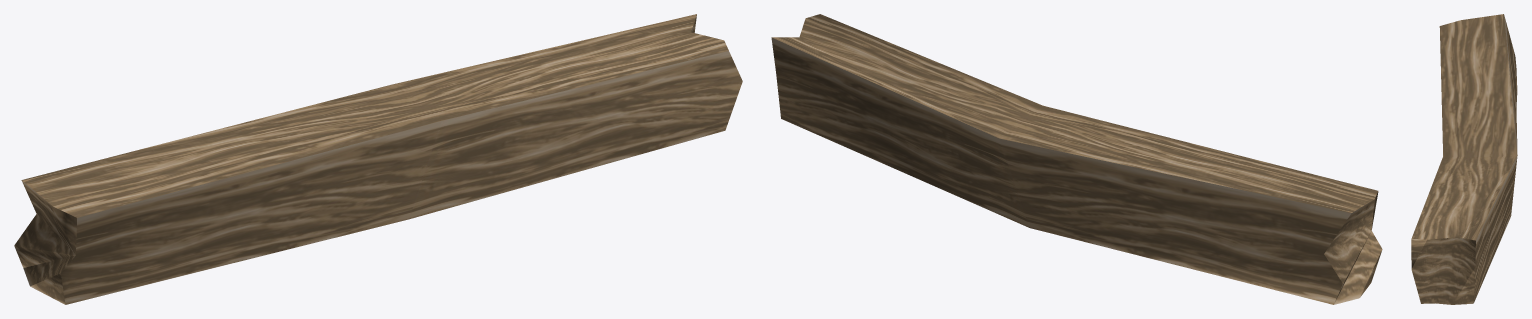
Rendered from pir_m_prp_spn_debris_beam.fbx.
3 renders of one model, left to right at view 1: azimuth 30°, elevation 25°; view 2: azimuth 150°, elevation 25°; view 3: azimuth 270°, elevation 25°, orthographic. The views are drawn at different scales.
Visible parts, largest first — view 1: debris_beam; view 2: debris_beam; view 3: debris_beam.
Boxes of the visible parts, x1=… form: debris_beam: x1=14, y1=14, x2=742, y2=304; debris_beam: x1=771, y1=14, x2=1382, y2=304; debris_beam: x1=1411, y1=14, x2=1517, y2=304.
Bounding box in the file's own units: 1657 × 295 × 306.
1 material, 1 textured.
